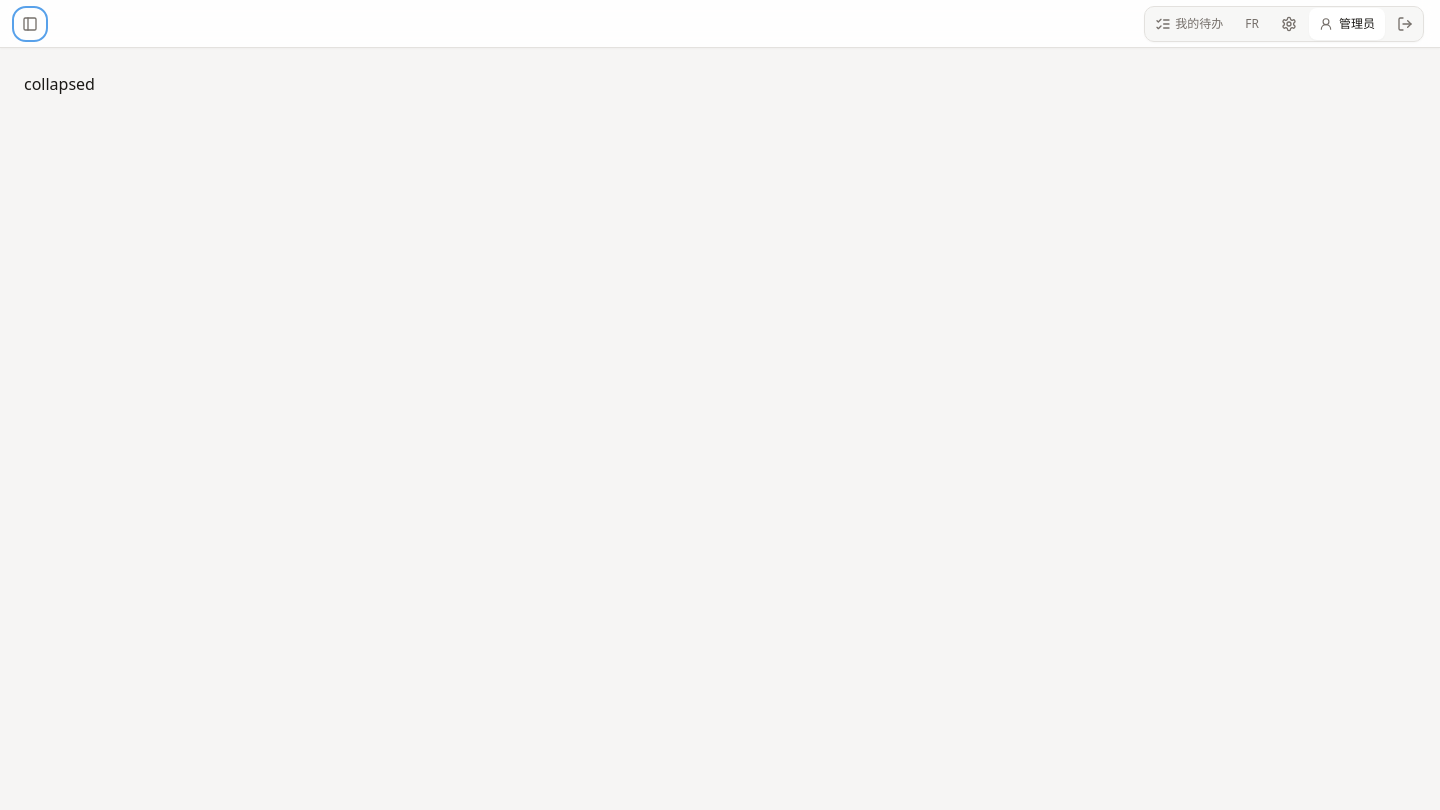
closes the actual zh sheet and navigates normally when a business link is selected
Expected: the text "collapsed" is shown, x1=24 y1=73 x2=95 y2=95
Click the button named "切换导航" at (30, 24), box x1=16 y1=10 x2=44 y2=38
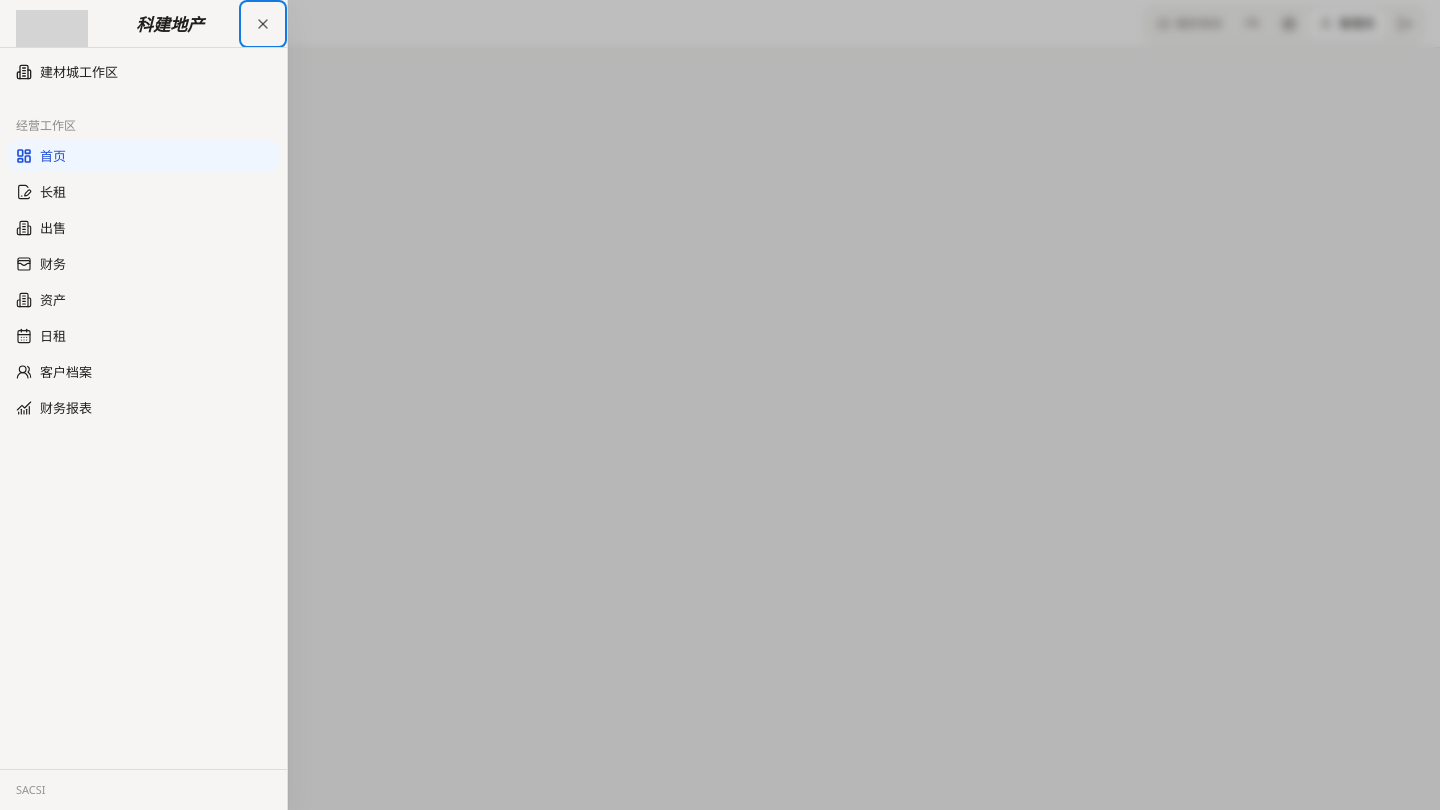
Expected: the dialog is shown, x1=0 y1=0 x2=288 y2=809
Click the link "财务报表" at (54, 408), box x1=16 y1=399 x2=92 y2=417
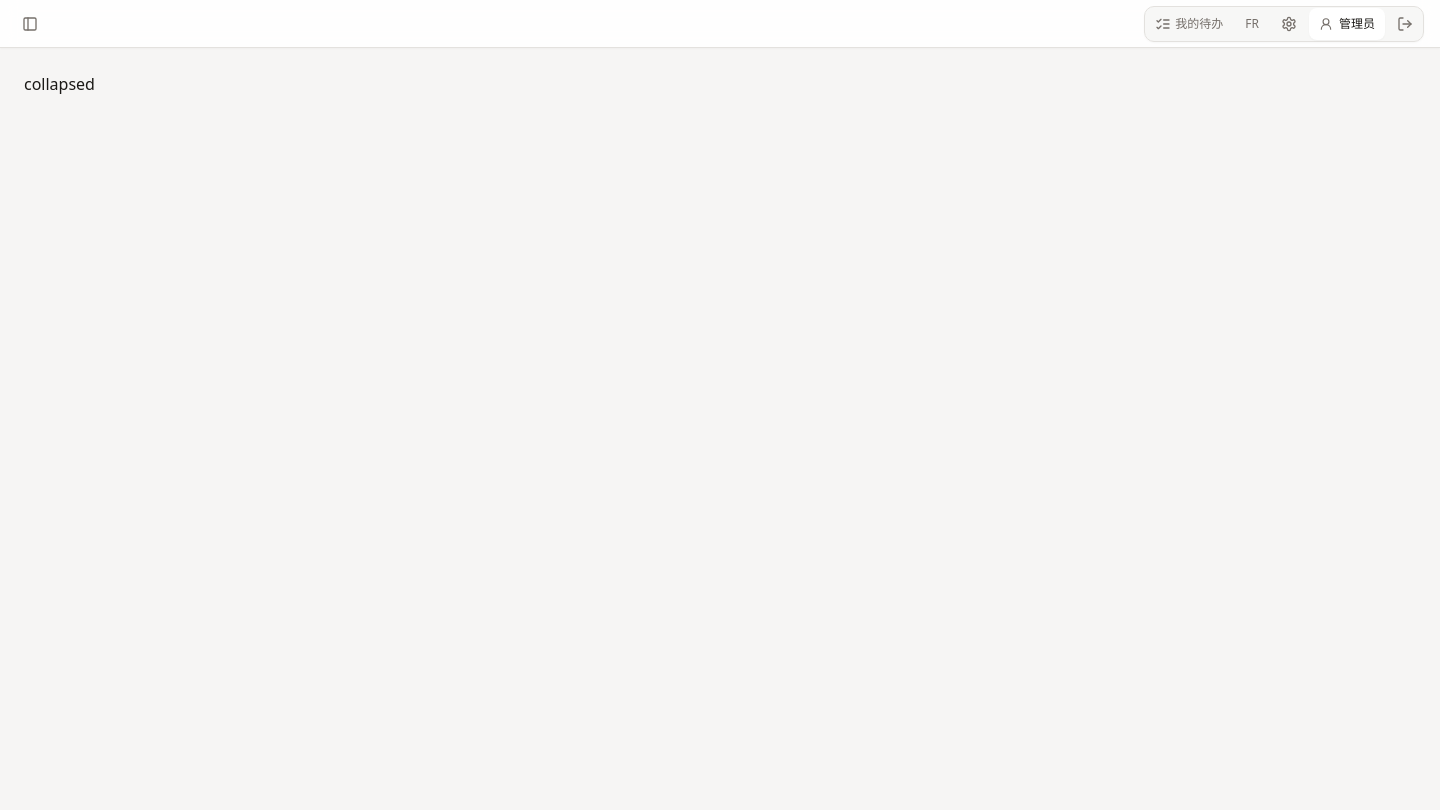
Expected: the dialog is gone
